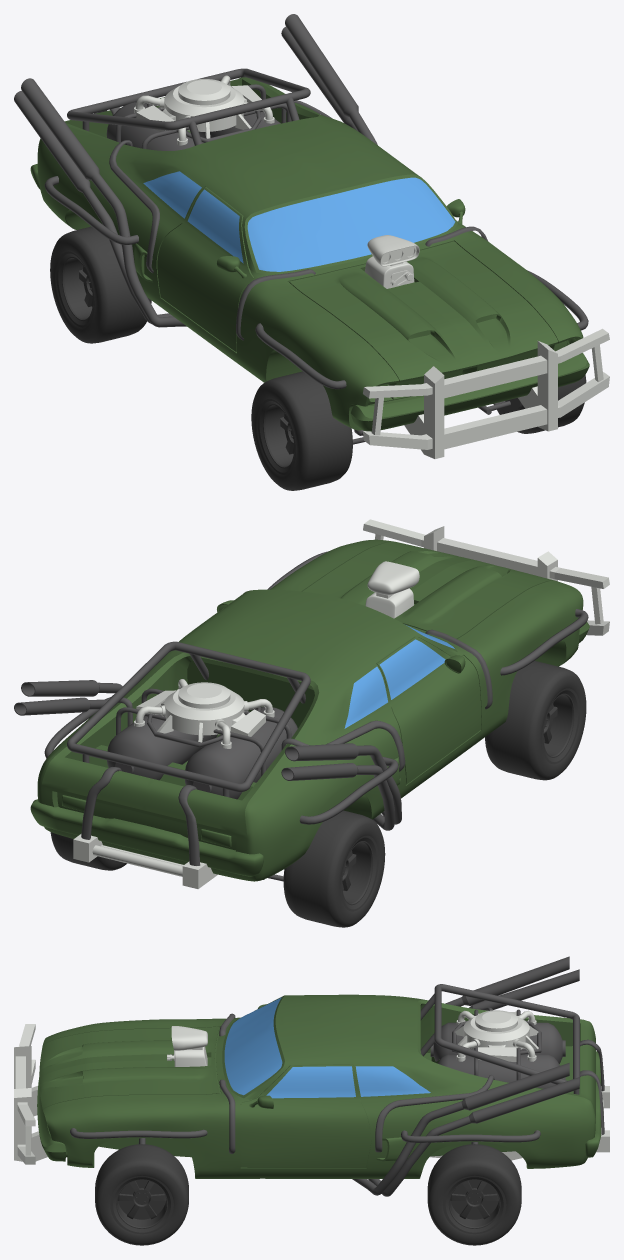
Rendered from MDL_D_Car 1.fbx.
The picture shows the model from 3 angles, top to bottom: view 1: azimuth 30°, elevation 25°; view 2: azimuth 150°, elevation 25°; view 3: azimuth 270°, elevation 25°; orthographic projection. The views are drawn at different scales.
Parts seen in each view (by area): view 1: A, C, D, B, WheelFR, WheelBR, WheelFL; view 2: A, C, D, WheelBR, WheelFR, B, WheelBL; view 3: A, C, D, B, WheelBL, WheelFL.
Boxes of the visible parts, left/top/right/bottom form: A: left=30, top=77, right=589, bottom=431; C: left=14, top=14, right=588, bottom=444; D: left=134, top=75, right=609, bottom=458; B: left=143, top=171, right=455, bottom=271; WheelFR: left=251, top=371, right=352, bottom=490; WheelBR: left=50, top=226, right=151, bottom=343; WheelFL: left=497, top=374, right=586, bottom=433; A: left=30, top=539, right=589, bottom=881; C: left=14, top=551, right=588, bottom=881; D: left=73, top=519, right=609, bottom=888; WheelBR: left=283, top=810, right=385, bottom=927; WheelFR: left=485, top=661, right=586, bottom=780; B: left=344, top=625, right=454, bottom=728; WheelBL: left=50, top=832, right=126, bottom=870; A: left=37, top=994, right=601, bottom=1178; C: left=70, top=956, right=604, bottom=1196; D: left=14, top=1010, right=609, bottom=1164; B: left=224, top=997, right=430, bottom=1098; WheelBL: left=427, top=1144, right=521, bottom=1245; WheelFL: left=95, top=1144, right=188, bottom=1245.
Size of the model in its own units: 235 by 168 by 502.
